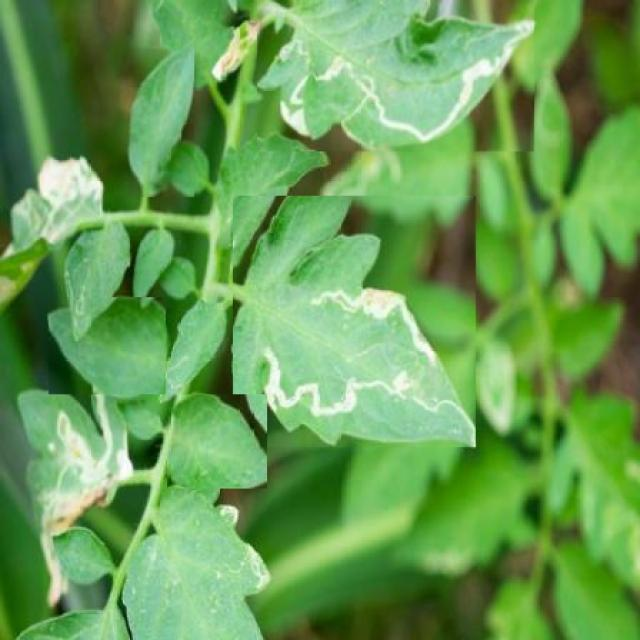Healthy: (50, 296, 166, 394), (128, 48, 195, 198), (167, 394, 267, 489)
Leaf Miner: (234, 196, 476, 447), (257, 0, 534, 151)
